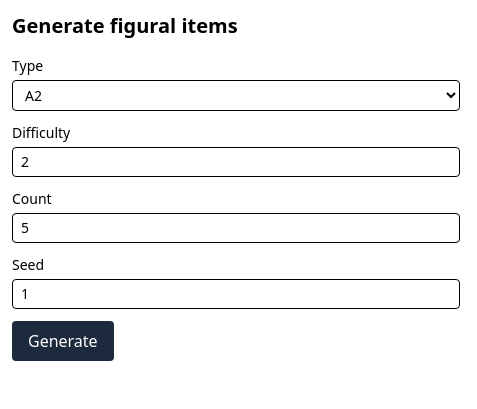
Test: Generate › posts the generate request with the chosen body and shows success
This screenshot has width=477, height=409.
Click the button "Generate" at coordinates (63, 341), box [12, 321, 114, 361]
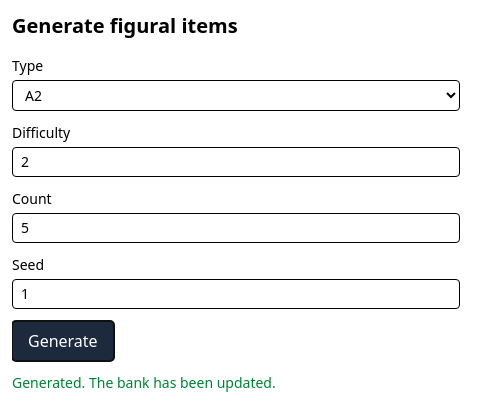
Now the text "Generated. The bank has been updated." is shown, box [12, 373, 276, 392]
